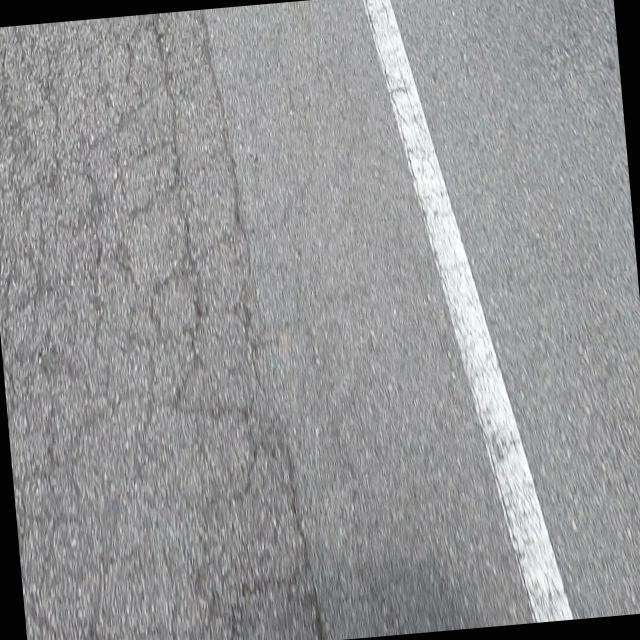Retak-Buaya: (0, 10, 325, 640)
